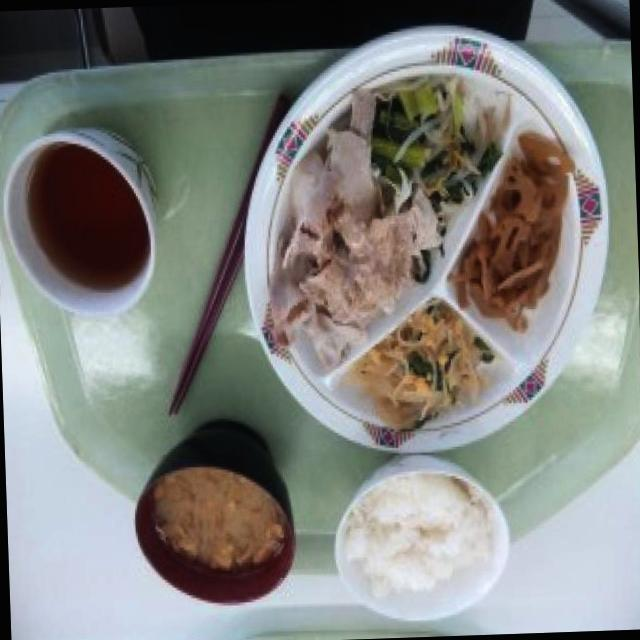Rice: (344, 479, 487, 604)
